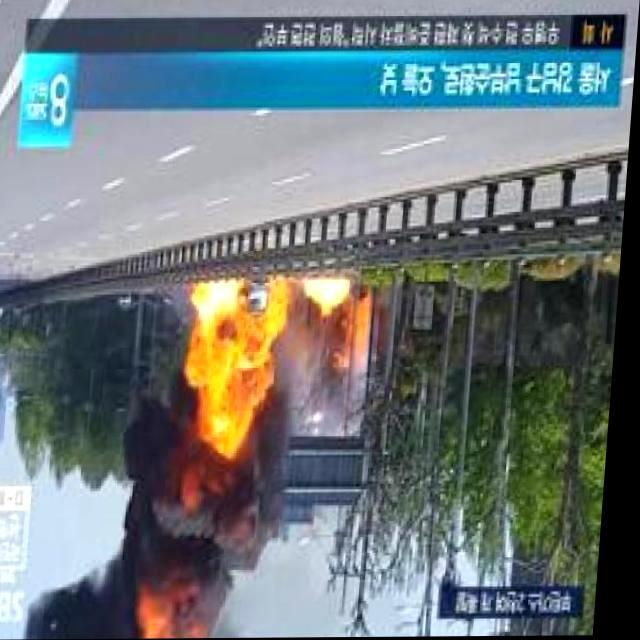fire: (185, 280, 288, 440), (304, 279, 352, 317), (359, 302, 373, 370)
